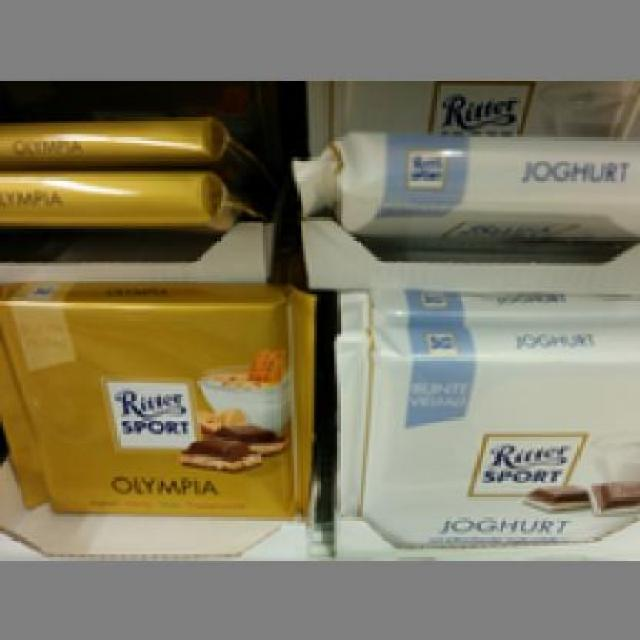Chocolate: (0, 274, 309, 517), (323, 323, 637, 546), (282, 123, 638, 243)
